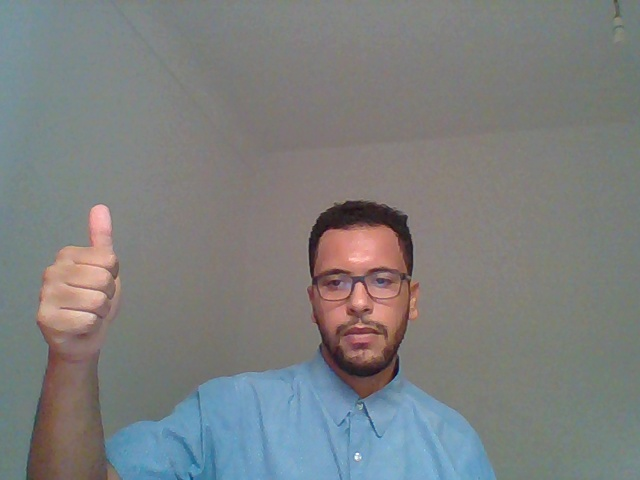ok: (7, 163, 161, 448)
